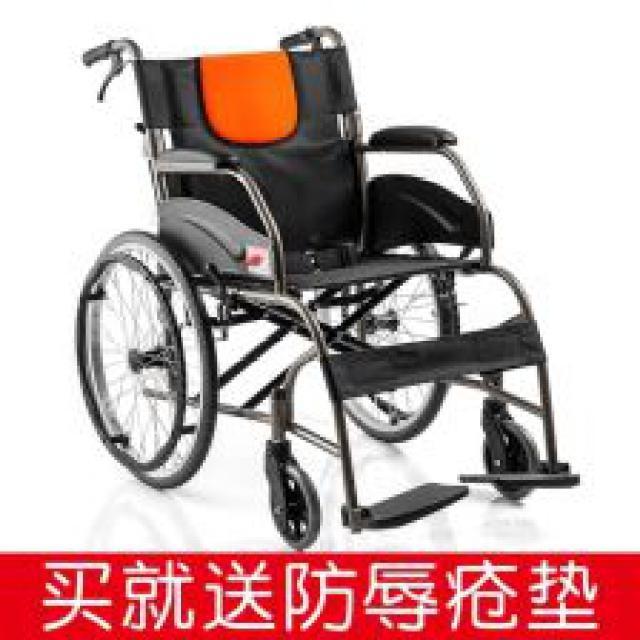wheelchair: (57, 20, 583, 543)
